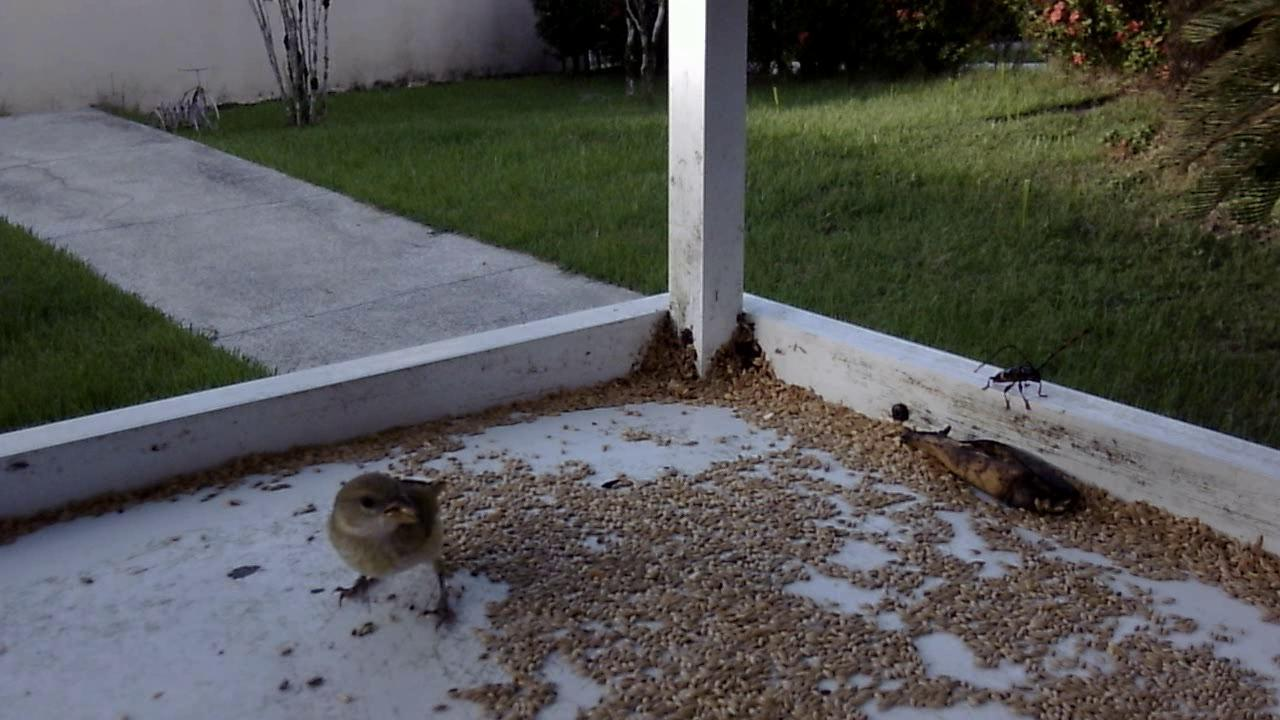canario_do_amazonas: (315, 463, 463, 634)
